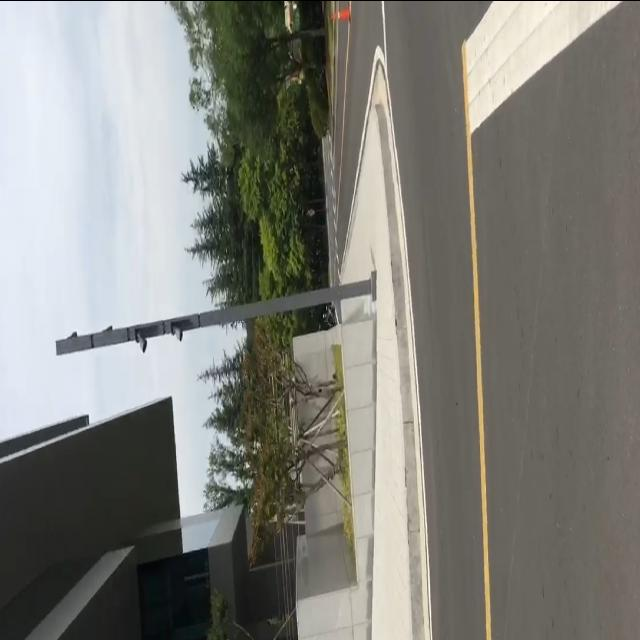obstacle: (53, 269, 376, 358), (327, 0, 353, 31)
road: (333, 0, 640, 640)
sidewalk: (339, 102, 416, 640)
